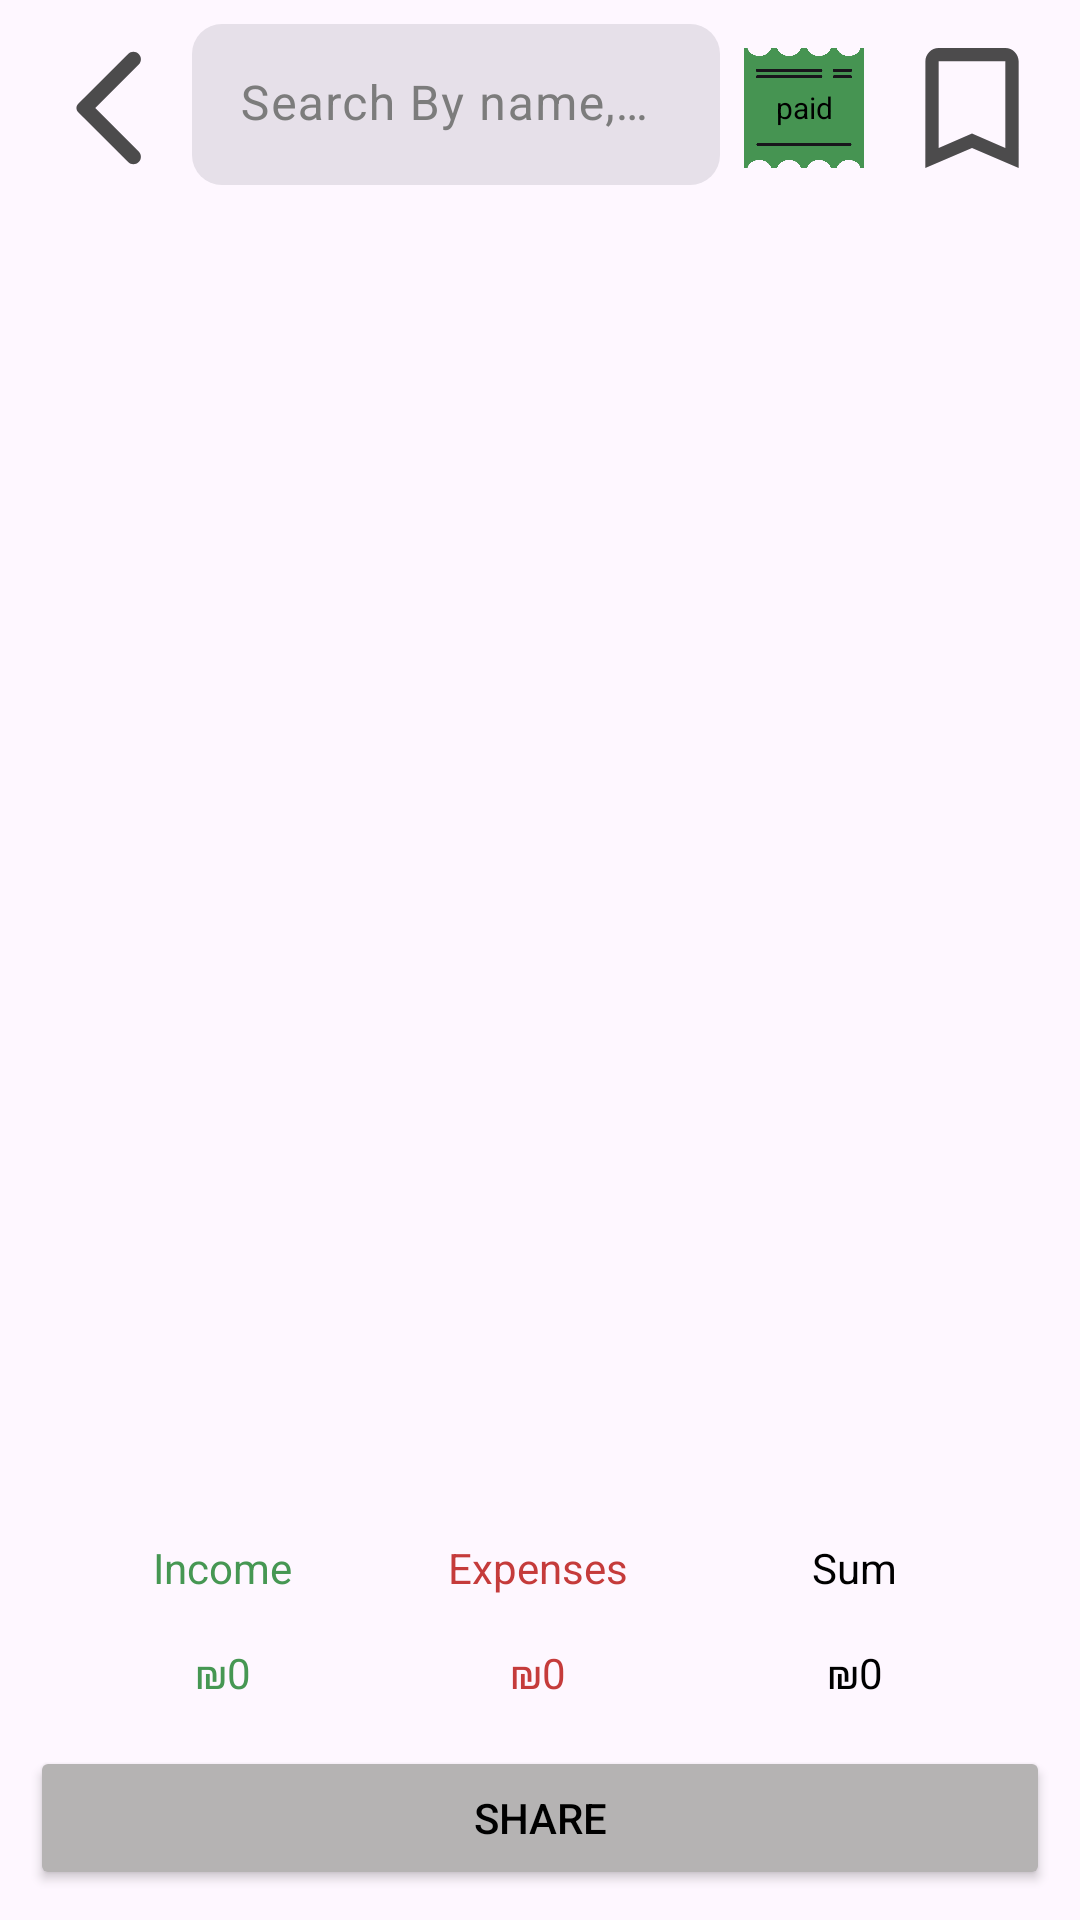

Screen size 1080×1920. Icon name, then its box in pixels as rect(x1, y1, x2, y2):
back: rect(76, 51, 141, 165)
bookmark not added: rect(925, 48, 1019, 168)
